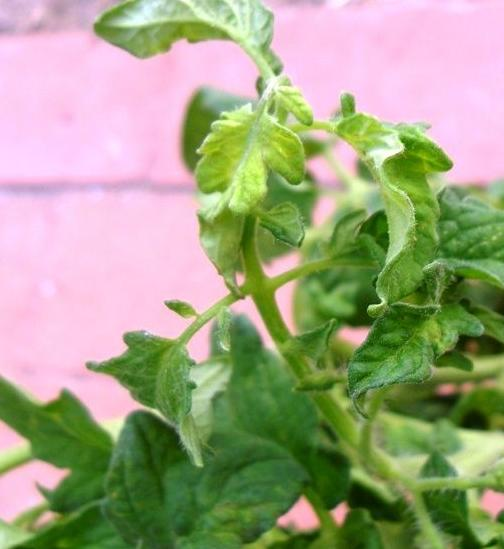Tomato leaf yellow virus: (334, 95, 464, 324), (174, 99, 310, 290), (74, 311, 215, 479), (76, 0, 301, 75), (413, 193, 504, 320)
